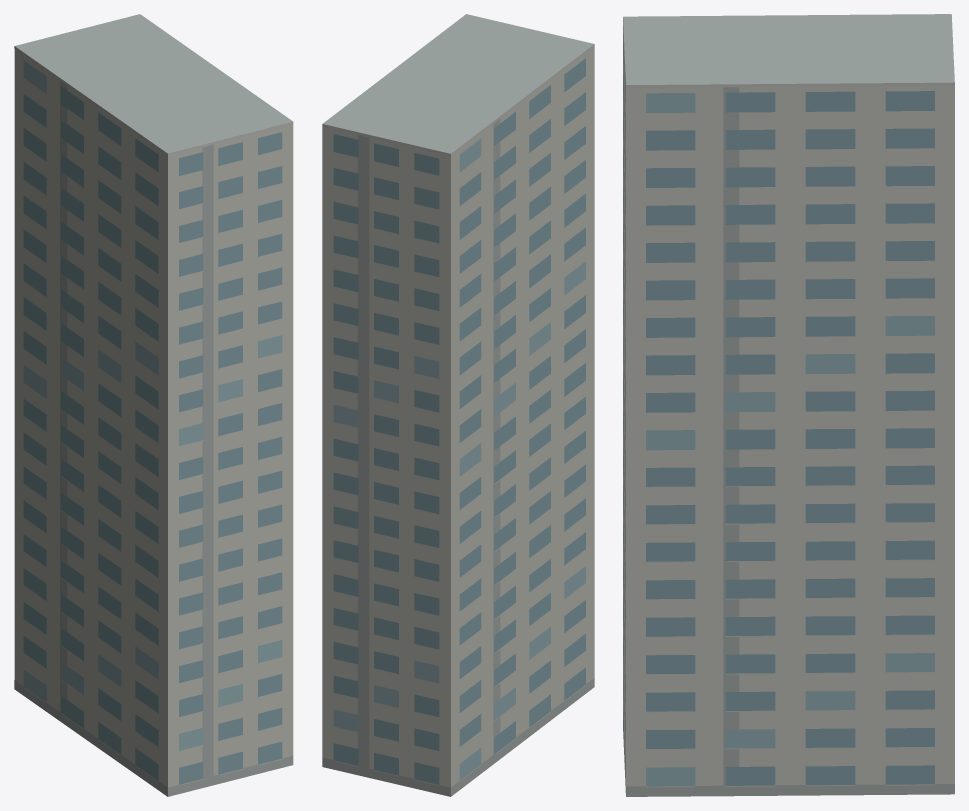
Rendered from residential-0a7720ef-14f3-4931-b914-e522e709b6f5.glb.
The picture shows the model from 3 angles, left to right: view 1: azimuth 30°, elevation 25°; view 2: azimuth 150°, elevation 25°; view 3: azimuth 270°, elevation 25°; orthographic projection. The views are drawn at different scales.
Parts seen in each view (by area): view 1: residential-0a7720ef-14f3-4931-b914-e522e709b6f5.tmp; view 2: residential-0a7720ef-14f3-4931-b914-e522e709b6f5.tmp; view 3: residential-0a7720ef-14f3-4931-b914-e522e709b6f5.tmp.
Boxes of the visible parts, left/top/right/bottom form: residential-0a7720ef-14f3-4931-b914-e522e709b6f5.tmp: left=14, top=14, right=293, bottom=796; residential-0a7720ef-14f3-4931-b914-e522e709b6f5.tmp: left=322, top=14, right=594, bottom=796; residential-0a7720ef-14f3-4931-b914-e522e709b6f5.tmp: left=623, top=14, right=954, bottom=796.
Bounding box in the file's own units: 12.65 × 59 × 24.94.
